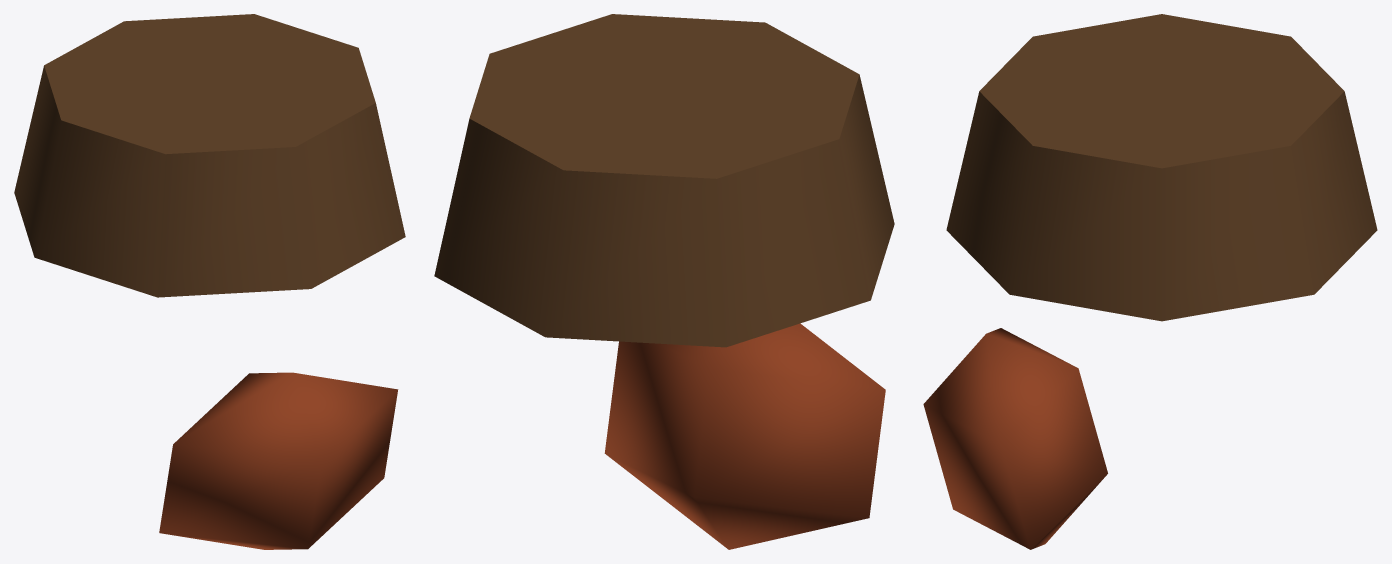
File: hat_leather.glb
3 renders of one model, left to right at view 1: azimuth 30°, elevation 25°; view 2: azimuth 150°, elevation 25°; view 3: azimuth 270°, elevation 25°, orthographic. The views are drawn at different scales.
Parts seen in each view (by area): view 1: hat_leather; view 2: hat_leather; view 3: hat_leather.
Part boxes in pixels (x1=…): hat_leather: x1=14, y1=14, x2=405, y2=549; hat_leather: x1=434, y1=14, x2=894, y2=549; hat_leather: x1=923, y1=14, x2=1377, y2=549.
Size of the model in its own units: 0.1593 by 0.1847 by 0.1678.
